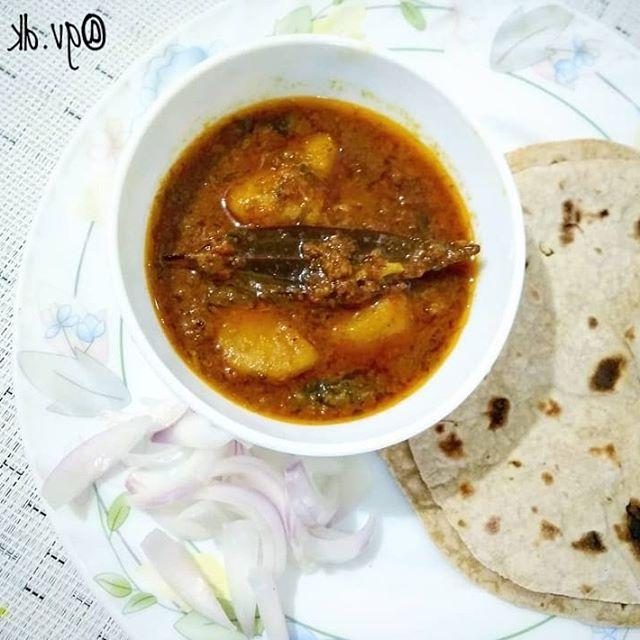Roti: (418, 138, 639, 622)
